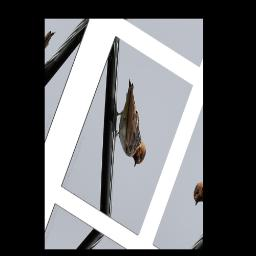Swallow: (102, 76, 167, 172)
